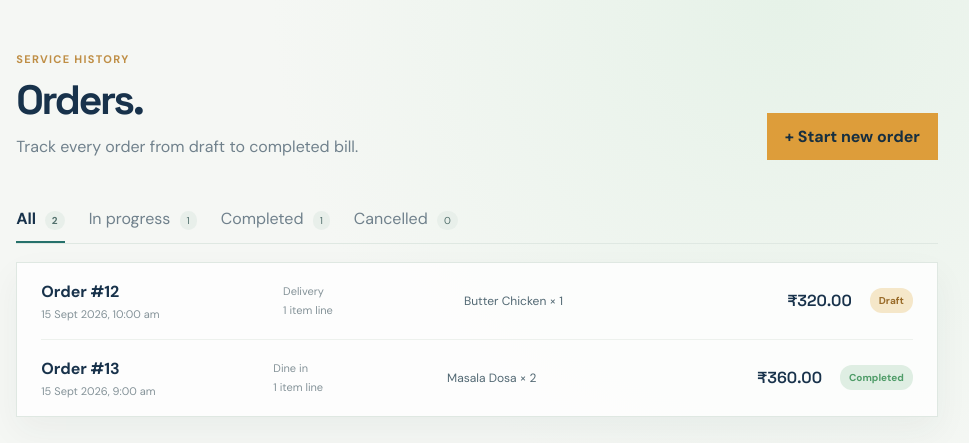
Test case: NewOrder › shows order history and filters in-progress orders
The image size is (969, 443).
Expected: the text "Order #12" is shown, [41, 281, 119, 302]
Expected: the text "Order #13" is shown, [41, 358, 120, 379]
Click the button "In progress 1".
click(143, 219)  # box [89, 196, 197, 243]
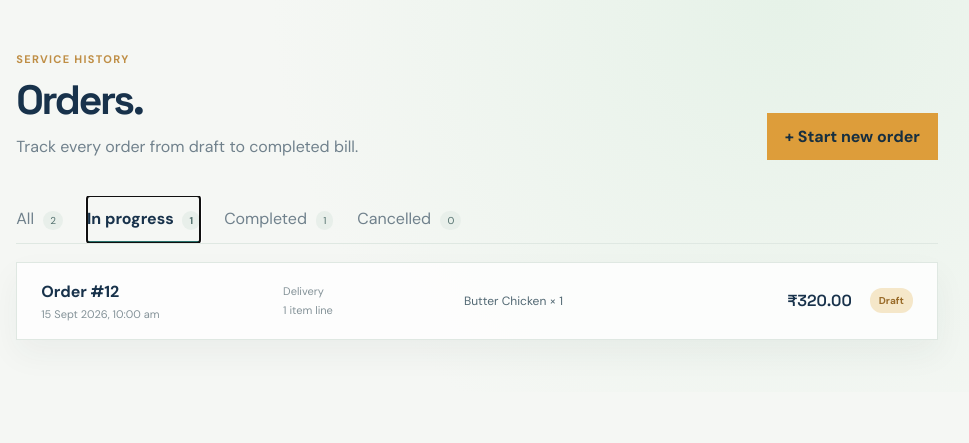
Expected: the text "Order #12" is shown, [41, 281, 119, 302]
Result: the text "Order #13" is gone
